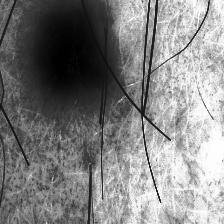Benign Marking or Mole: (32, 11, 116, 96)
